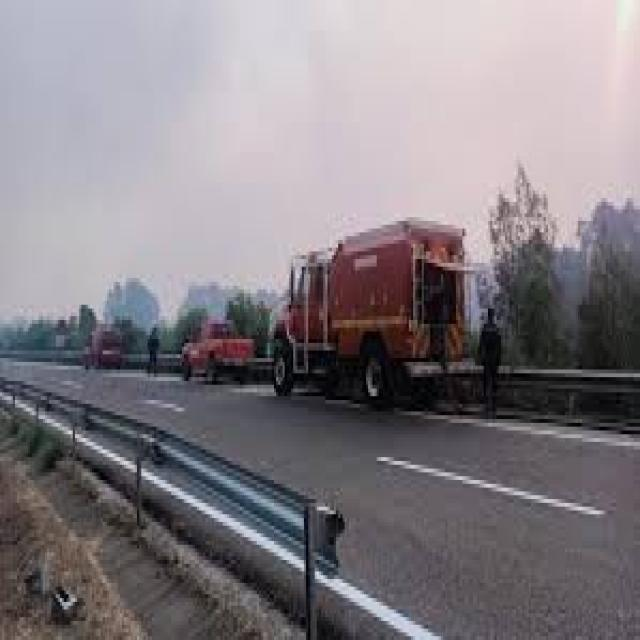emergency: (268, 206, 472, 414)
